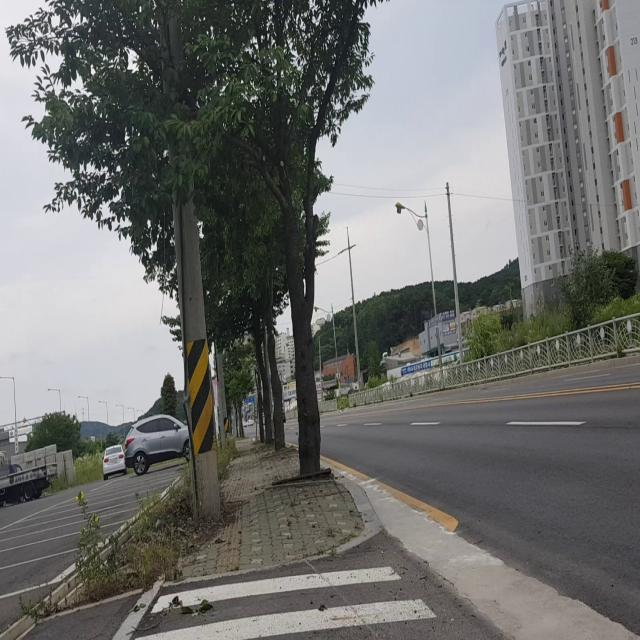횡단보도: (132, 563, 438, 639)
